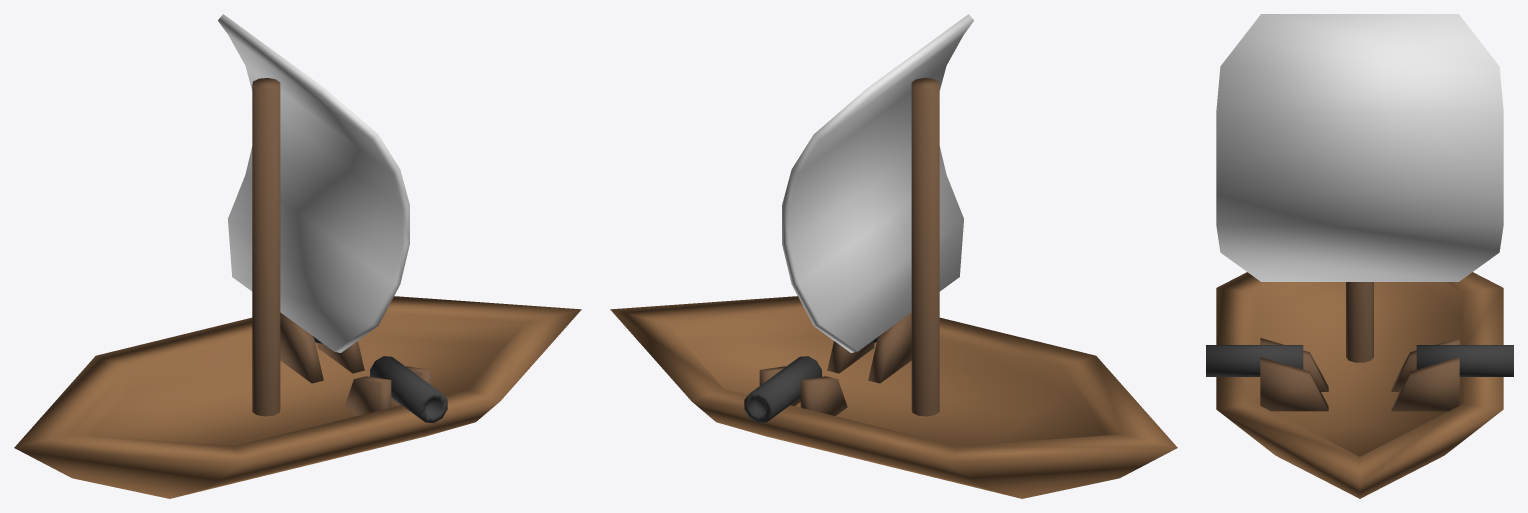
The model's file is TestNormalBoat.glb.
The picture shows the model from 3 angles, left to right: view 1: azimuth 30°, elevation 25°; view 2: azimuth 150°, elevation 25°; view 3: azimuth 270°, elevation 25°; orthographic projection. The views are drawn at different scales.
Visible parts, largest first — view 1: Cube.005; view 2: Cube.005; view 3: Cube.005.
Part boxes in pixels (box(x1,y1,x2,y2)): Cube.005: box(14, 14, 581, 498); Cube.005: box(610, 14, 1177, 498); Cube.005: box(1206, 14, 1513, 498).
Size of the model in its own units: 4.43 by 3.15 by 2.14.
